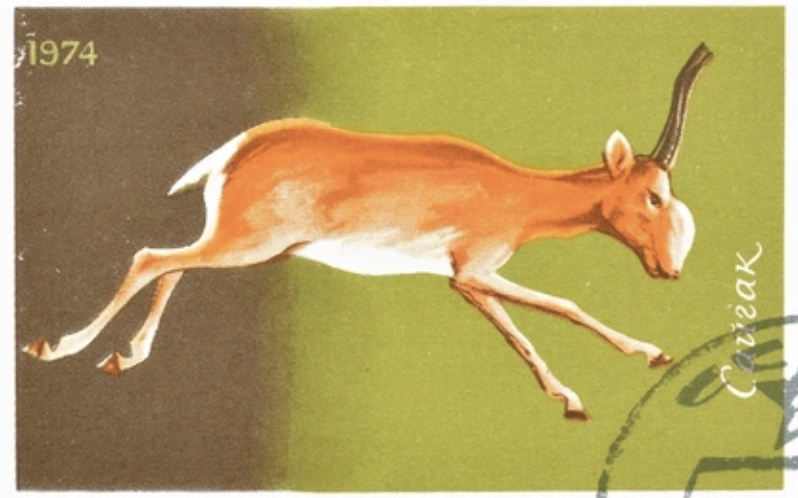saiga: (36, 65, 711, 448)
